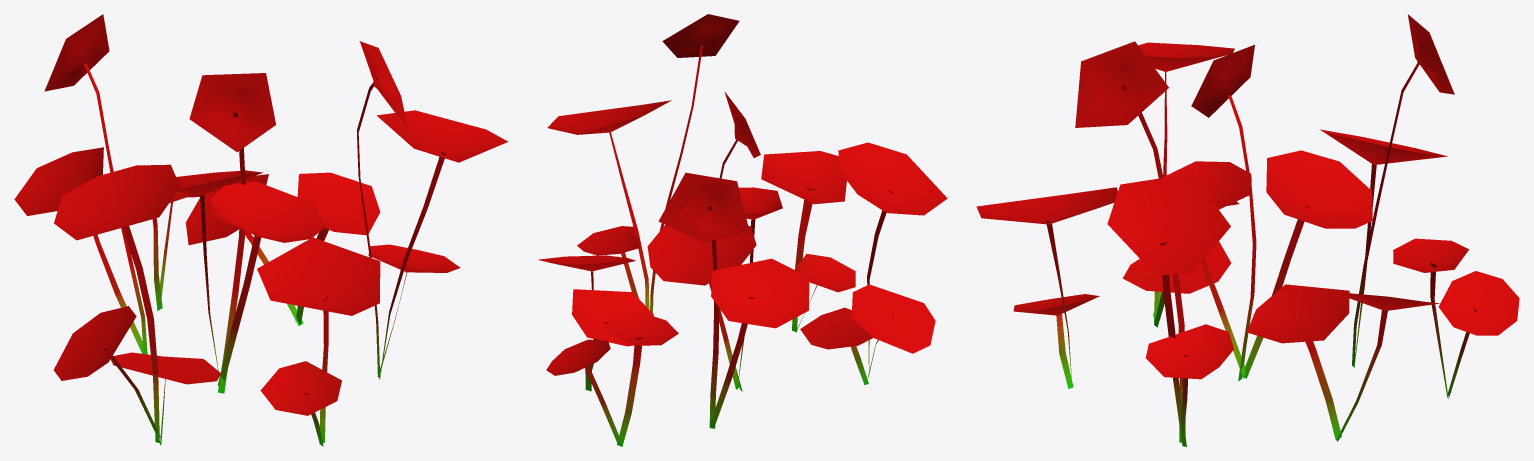
File: Native Violet_LOD4_Var16_ultkcfeja.fbx
The picture shows the model from 3 angles, left to right: view 1: azimuth 30°, elevation 25°; view 2: azimuth 150°, elevation 25°; view 3: azimuth 270°, elevation 25°; orthographic projection. The views are drawn at different scales.
Parts seen in each view (by area): view 1: _91zm_Var16_LOD4; view 2: _91zm_Var16_LOD4; view 3: _91zm_Var16_LOD4.
Boxes of the visible parts, box(x1,y1,x2,y2) form: _91zm_Var16_LOD4: box(14, 14, 508, 446); _91zm_Var16_LOD4: box(538, 14, 947, 446); _91zm_Var16_LOD4: box(976, 14, 1519, 446).
Size of the model in its own units: 23.33 by 18.81 by 24.1.
